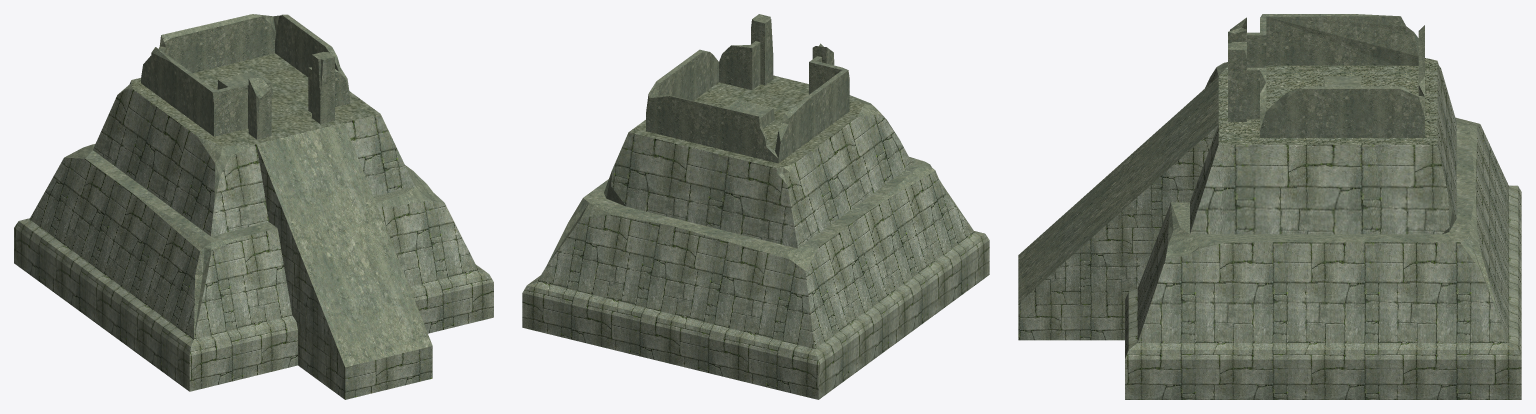
The model's file is thm_nboo_gungan_imprv_building_s01_l1.fbx.
3 views of the same model, side by side, from view 1: azimuth 30°, elevation 25°; view 2: azimuth 150°, elevation 25°; view 3: azimuth 270°, elevation 25° (orthographic). The views are drawn at different scales.
Parts seen in each view (by area): view 1: mesh_node; view 2: mesh_node; view 3: mesh_node.
Boxes of the visible parts, <box> form: mesh_node: <box>14,14,493,399</box>; mesh_node: <box>522,14,989,399</box>; mesh_node: <box>1018,14,1521,399</box>.
Bounding box in the file's own units: 31.25 × 25 × 39.65.
